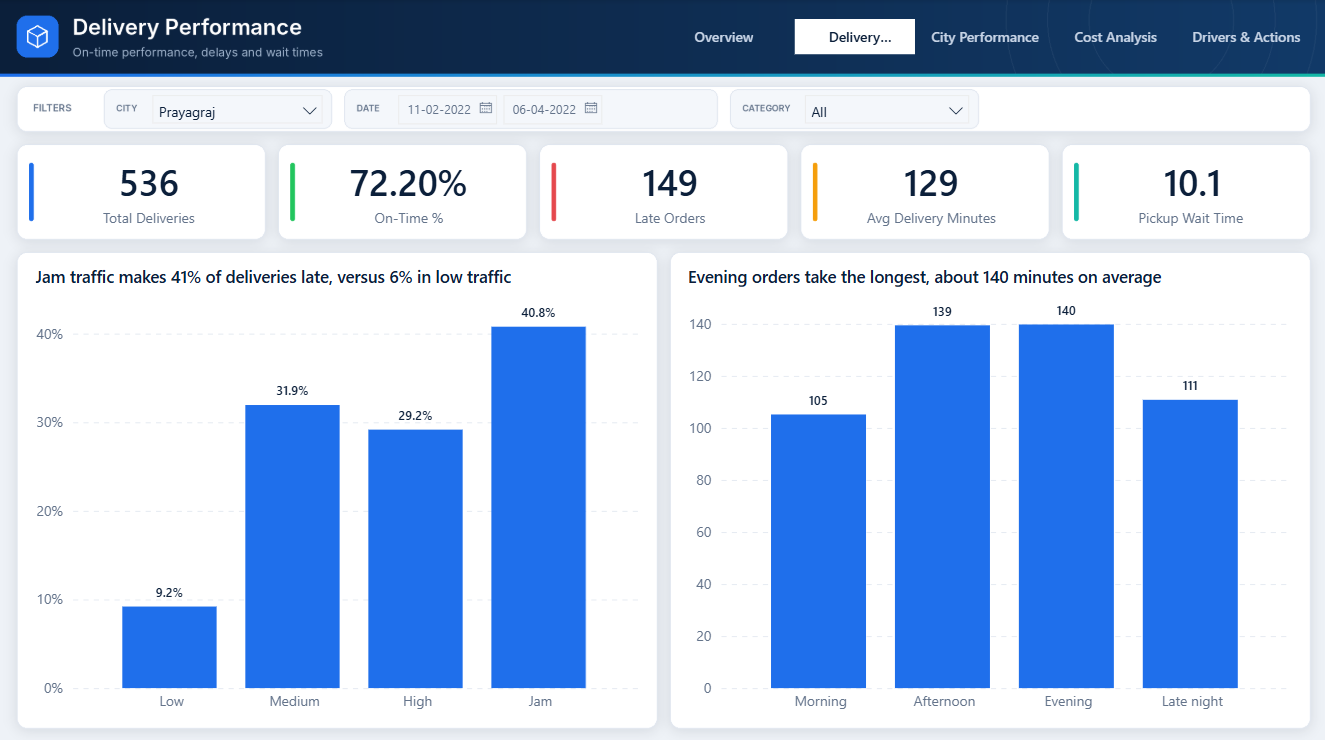

The dashboard page shown, as its layout file describes it:
{"tool":"powerbi","page":{"name":"Delivery Performance","canvas":[1280,720],"ordinal":1},"visuals":[{"type":"card","fields":{"Values":["vw_delivery_analysis.Total Deliveries"]},"box":[38,144,210,84],"z":1000},{"type":"card","fields":{"Values":["vw_delivery_analysis.On-Time %"]},"box":[290,144,210,84],"z":2000},{"type":"card","fields":{"Values":["vw_delivery_analysis.Late Orders"]},"box":[542,144,210,84],"z":3000},{"type":"card","fields":{"Values":["vw_delivery_analysis.Avg Delivery Minutes"]},"box":[794,144,210,84],"z":4000},{"type":"card","fields":{"Values":["Avg(vw_delivery_analysis.pickup_wait_min)"]},"box":[1046,144,210,84],"z":5000},{"type":"clusteredColumnChart","title":"Jam traffic makes 41% of deliveries late, versus 6% in low traffic","fields":{"Category":["vw_delivery_analysis.traffic"],"Y":["vw_delivery_analysis.Late Rate"]},"box":[24,250,602,448],"z":6000},{"type":"clusteredColumnChart","title":"Evening orders take the longest, about 140 minutes on average","fields":{"Category":["vw_delivery_analysis.time_of_day"],"Y":["vw_delivery_analysis.Avg Delivery Minutes"]},"box":[654,250,602,448],"z":7000},{"type":"slicer","fields":{"Values":["vw_delivery_analysis.city"]},"box":[142,88,174,36],"z":8000},{"type":"slicer","fields":{"Values":["vw_delivery_analysis.order_date"]},"box":[376,88,312,36],"z":9000},{"type":"slicer","fields":{"Values":["vw_delivery_analysis.category"]},"box":[772,88,168,36],"z":10000},{"type":"pageNavigator","box":[640,19,624,34],"z":11000}]}

Visuals, with their boxes in screenshot pixels (x1, y1, x2, y2), scaled from the page's 1280x720 canvas onto the 1325x740 screenshot:
card - vw_delivery_analysis.Total Deliveries: l=39, t=148, r=257, b=234
card - vw_delivery_analysis.On-Time %: l=300, t=148, r=518, b=234
card - vw_delivery_analysis.Late Orders: l=561, t=148, r=778, b=234
card - vw_delivery_analysis.Avg Delivery Minutes: l=822, t=148, r=1039, b=234
card - Avg(vw_delivery_analysis.pickup_wait_min): l=1083, t=148, r=1300, b=234
"Jam traffic makes 41% of deliveries late, versus 6% in low traffic" clusteredColumnChart: l=25, t=257, r=648, b=717
"Evening orders take the longest, about 140 minutes on average" clusteredColumnChart: l=677, t=257, r=1300, b=717
slicer - vw_delivery_analysis.city: l=147, t=90, r=327, b=127
slicer - vw_delivery_analysis.order_date: l=389, t=90, r=712, b=127
slicer - vw_delivery_analysis.category: l=799, t=90, r=973, b=127
pageNavigator: l=662, t=20, r=1308, b=54
